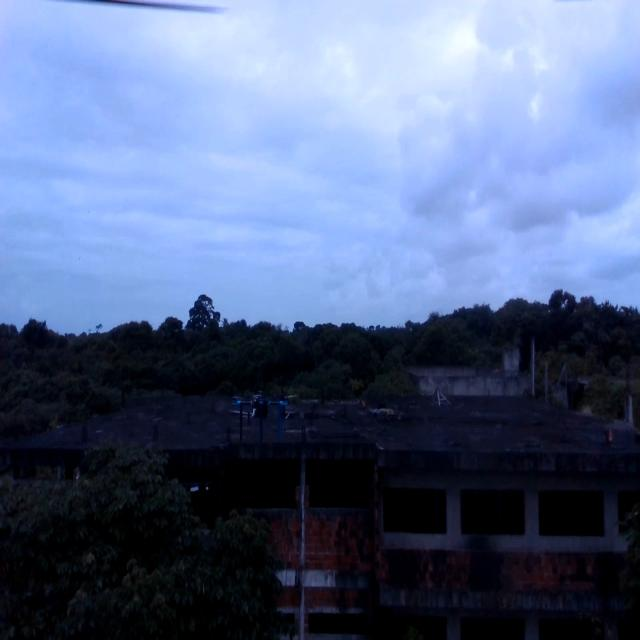-uav-: (220, 376, 318, 465)
